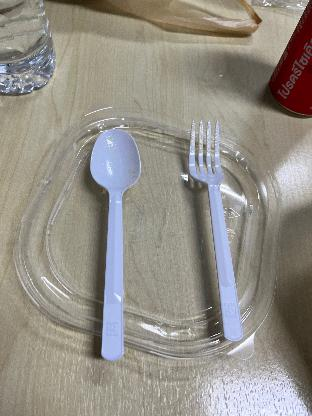Others: (181, 119, 254, 348), (81, 121, 144, 363)
